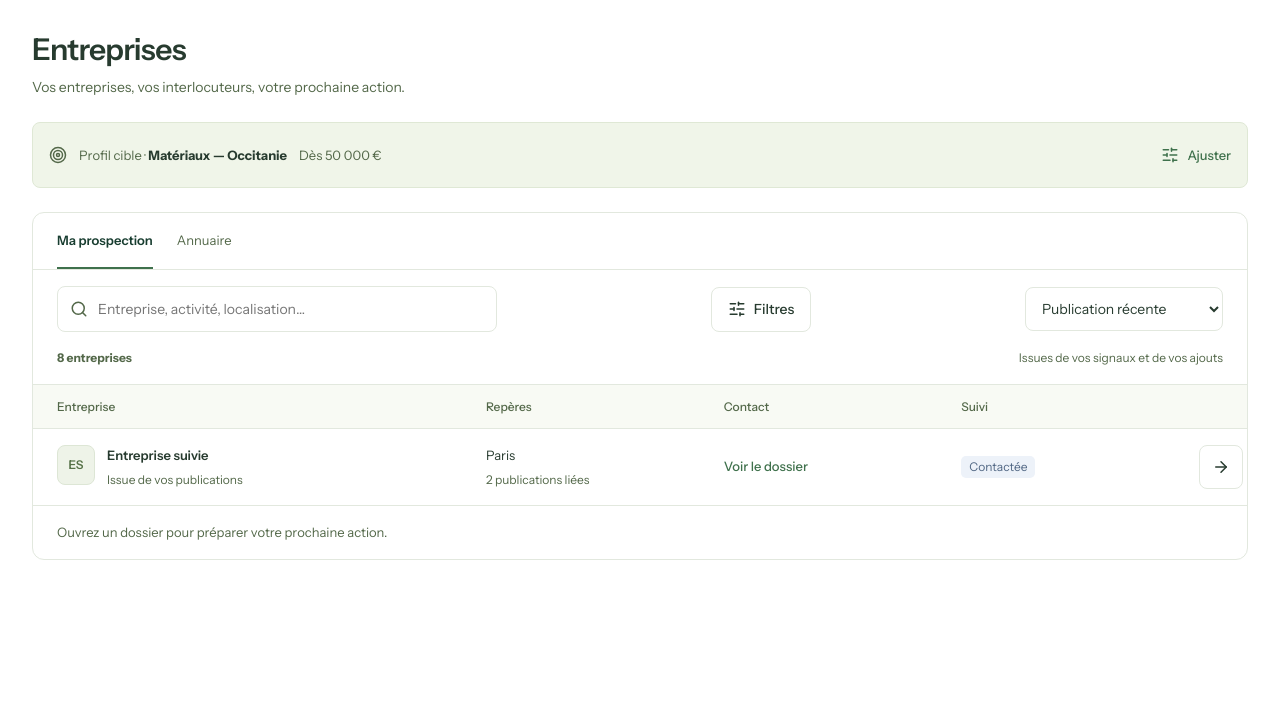
one company table, two server lists › uses server counts without scanning every status and changes view to directory
This screenshot has width=1280, height=720.
Expected: the link "Entreprise suivie" is shown, [107,447,208,463]
Expected: the text "8 entreprises" is shown, [57,348,132,368]
What coordinates should you click on to do the following:
click the tab "Annuaire"
I would click on:
 (204, 241)
Its box is [177,213,232,269].
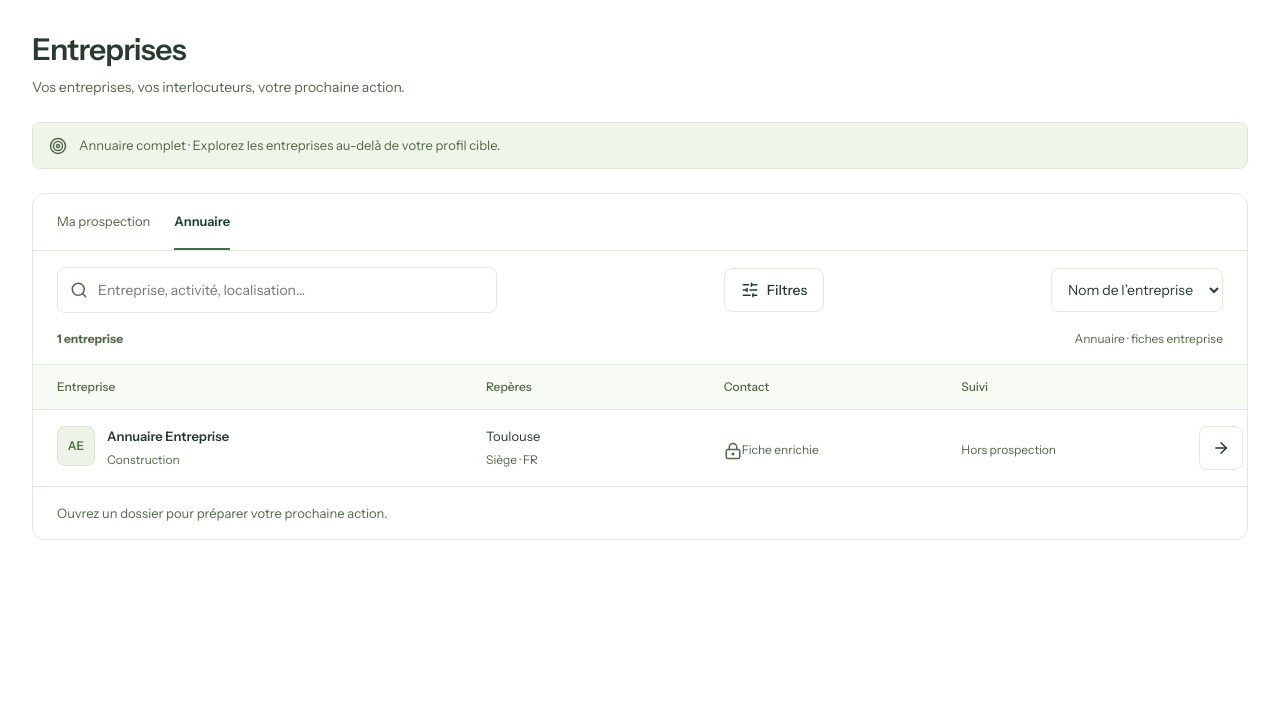
Now the link "Annuaire Entreprise" is shown, box [107,426,229,446]
